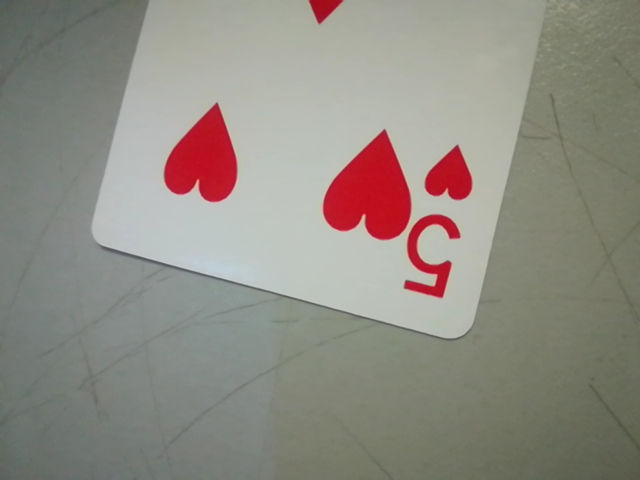hx 5: (400, 132, 480, 312)
